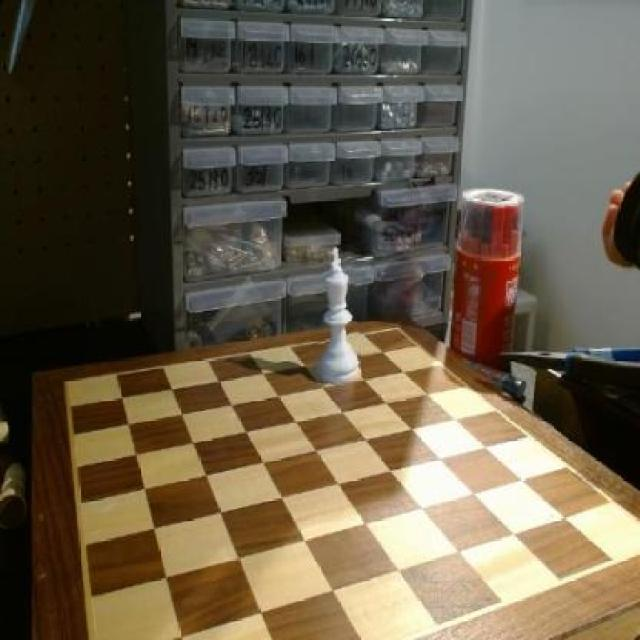white-bishop: (312, 246, 360, 386)
